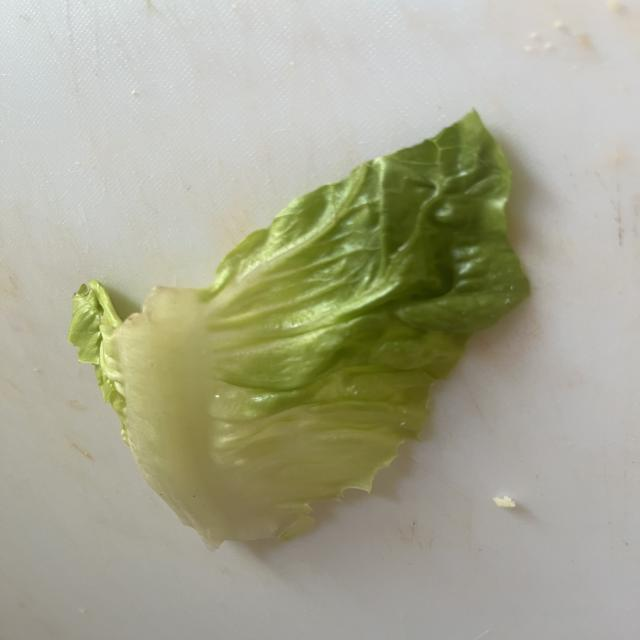lettuce: (69, 112, 528, 547)
